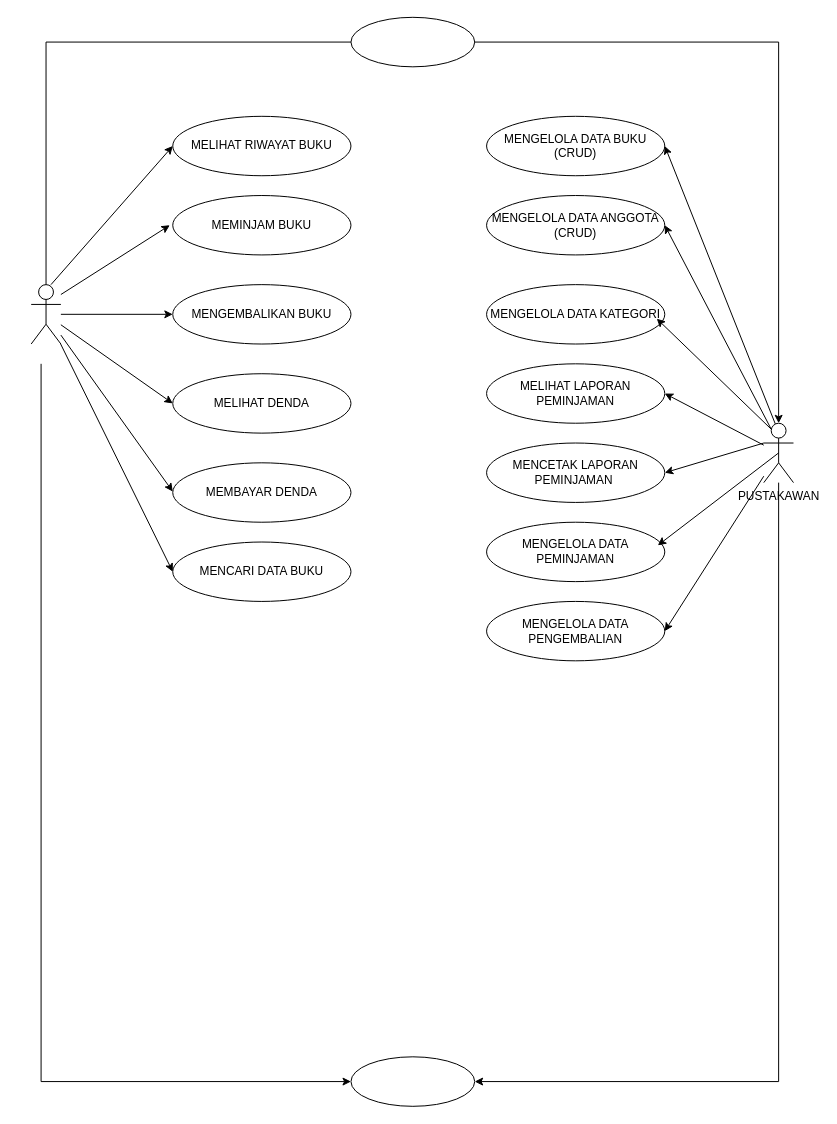
Image size: 837x1124. Some labels were removed from this diagram. The shapes that lost their labels are listed below. From the top down, each one's centre as x and y in pixels, then its label:
pixel 412 41: LOGIN
pixel 45 314: ANGGOTA
pixel 412 1081: LOGOUT
